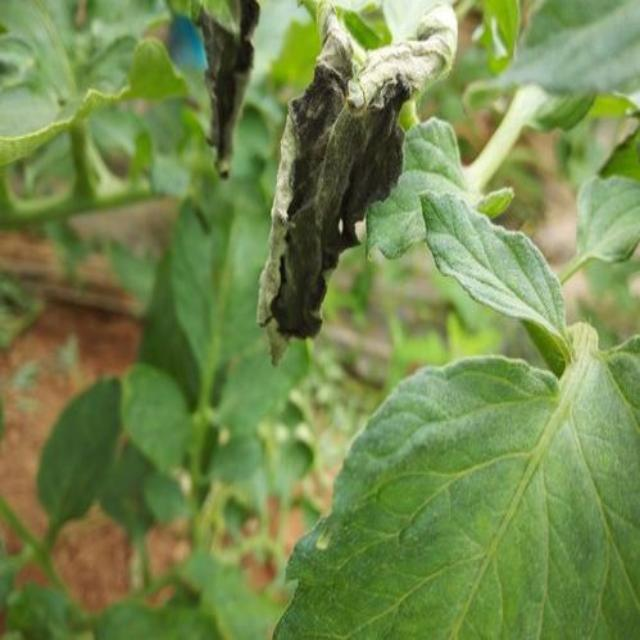Early_blight: (256, 1, 458, 363), (198, 1, 253, 175)
